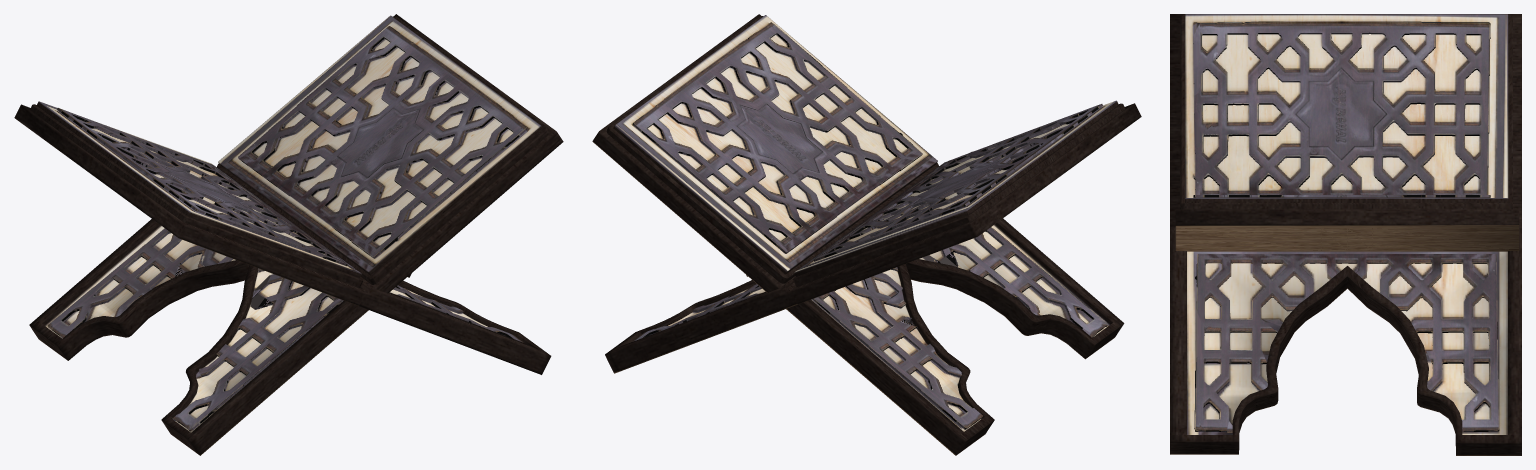
File: rihal.glb
The picture shows the model from 3 angles, left to right: view 1: azimuth 30°, elevation 25°; view 2: azimuth 150°, elevation 25°; view 3: azimuth 270°, elevation 25°; orthographic projection. The views are drawn at different scales.
Visible parts, largest first — view 1: pCube7; view 2: pCube7; view 3: pCube7.
Boxes of the visible parts, left/top/right/bottom form: pCube7: left=14, top=14, right=563, bottom=455; pCube7: left=592, top=14, right=1141, bottom=455; pCube7: left=1170, top=14, right=1521, bottom=455.
Size of the model in its own units: 364 by 218 by 267.
6 materials, 6 textured.
